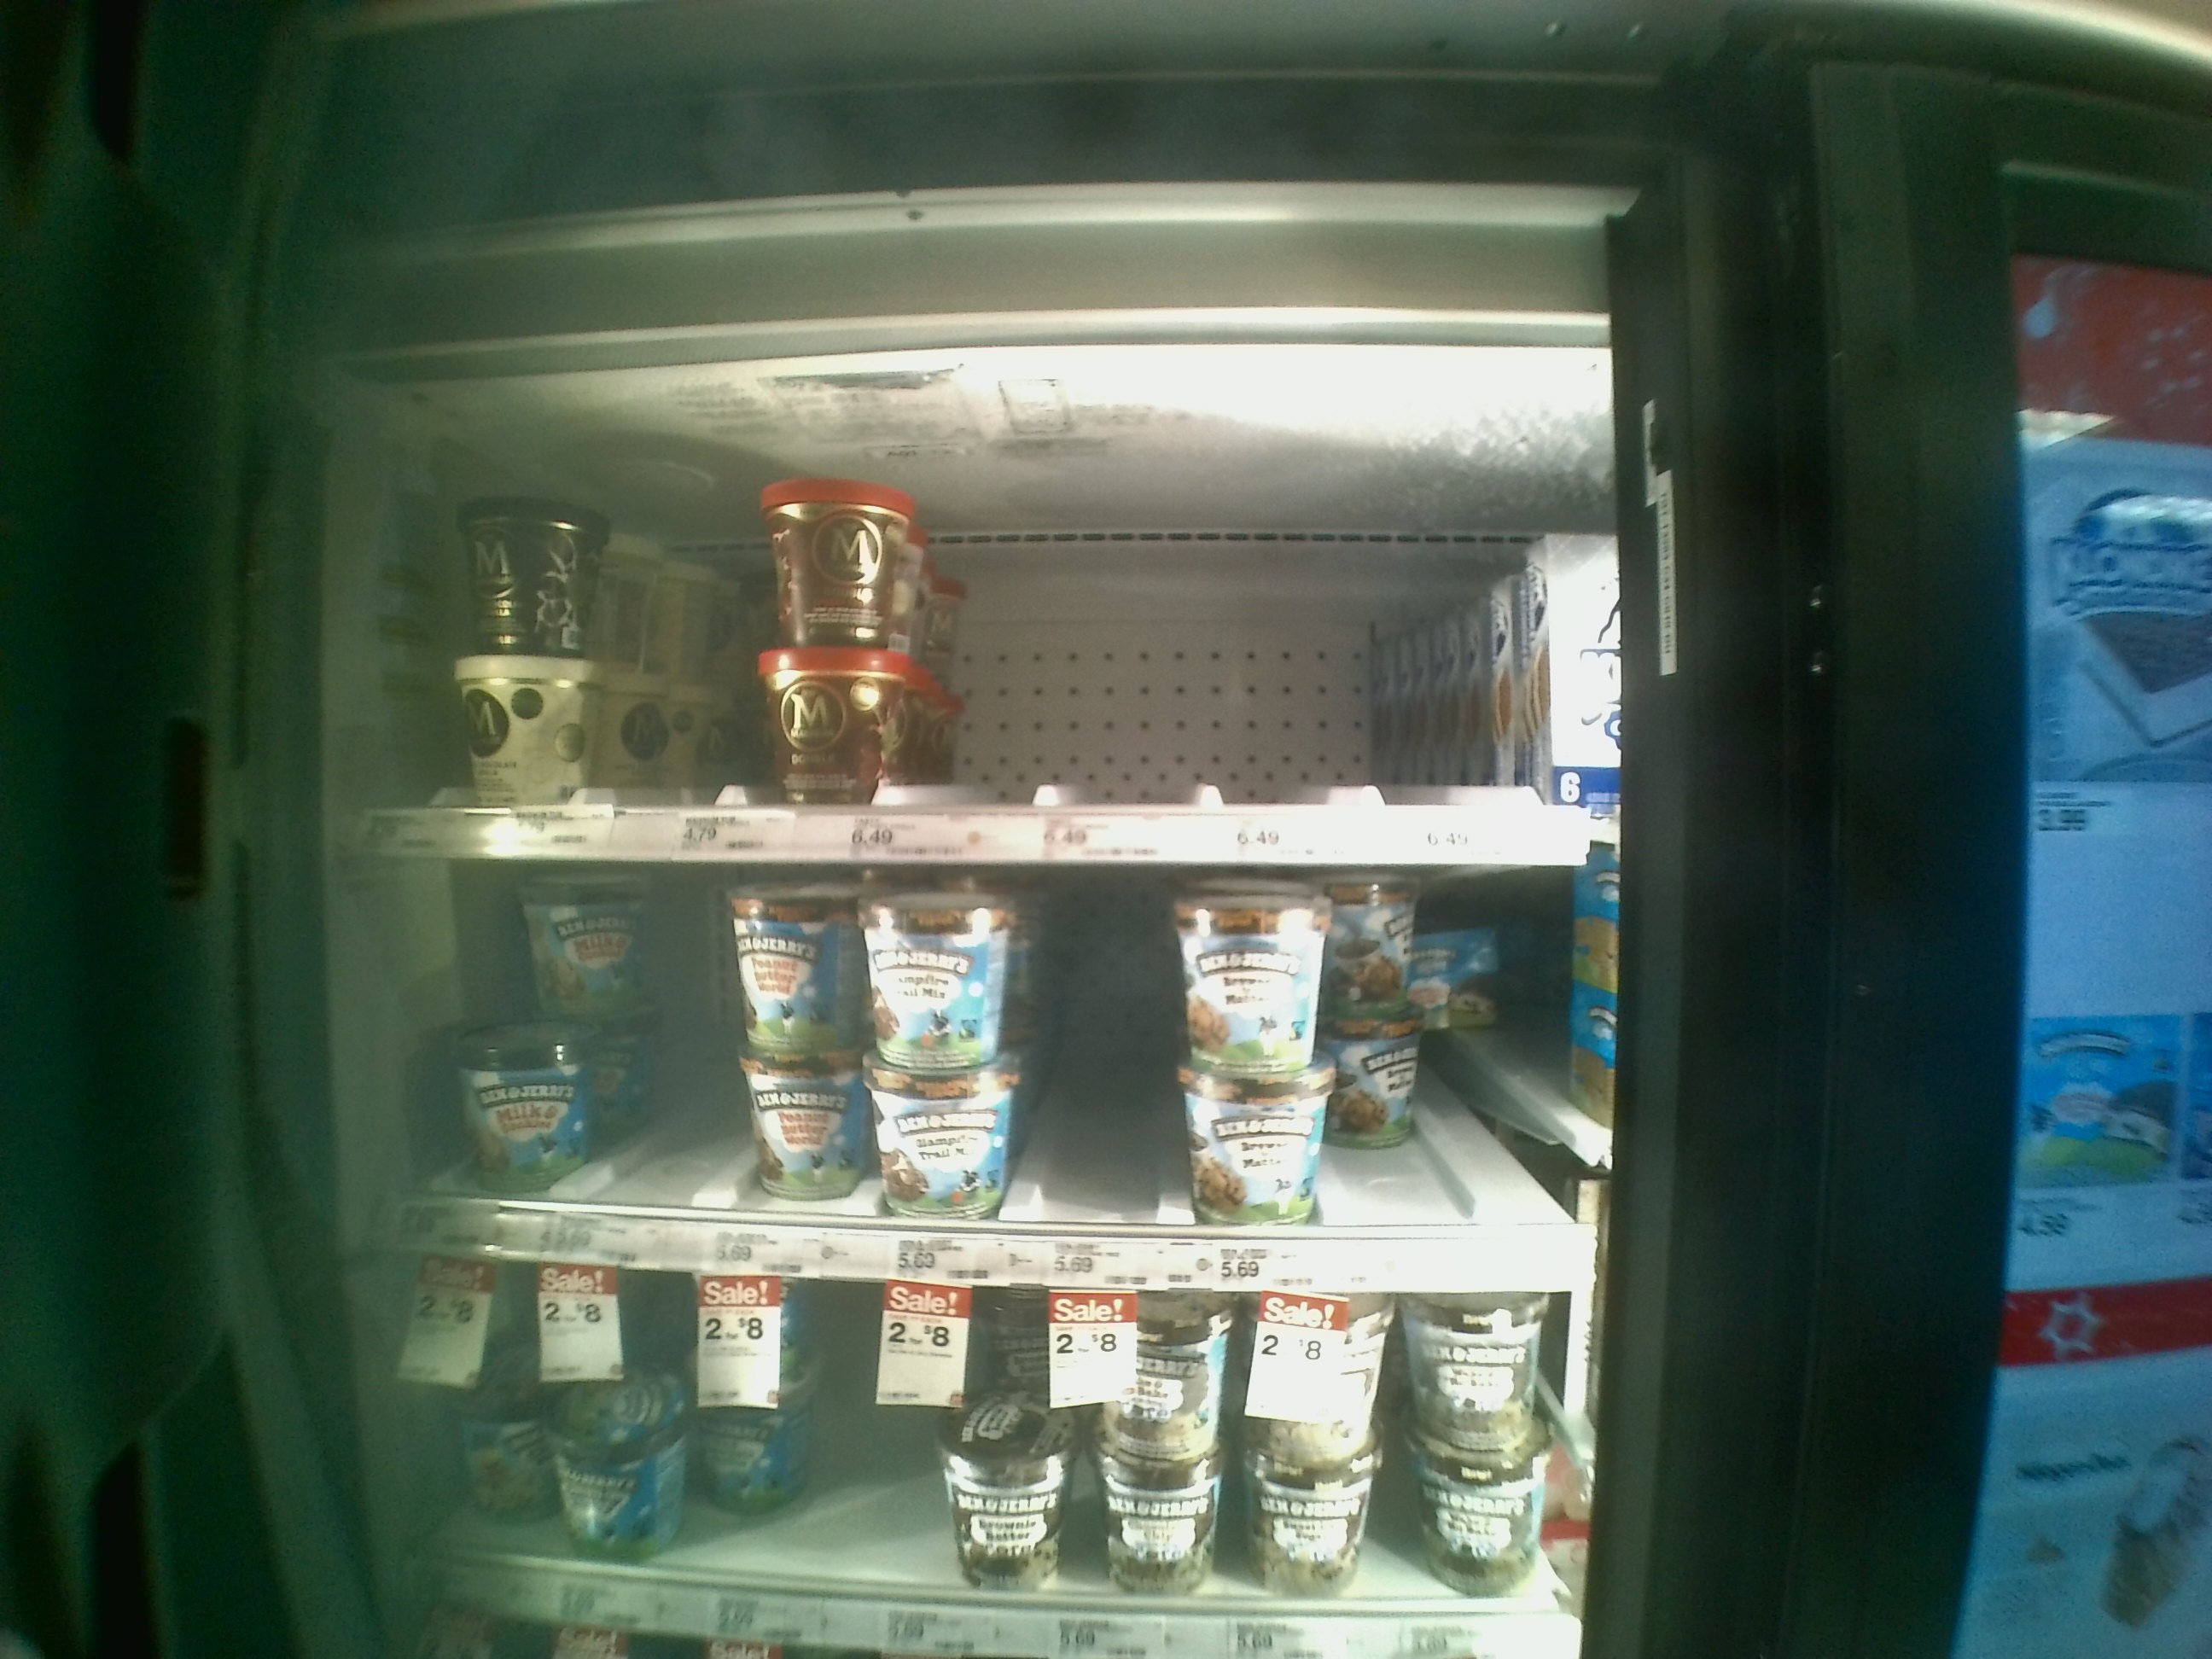shelf: (366, 397, 1601, 868), (364, 870, 1629, 1297)
